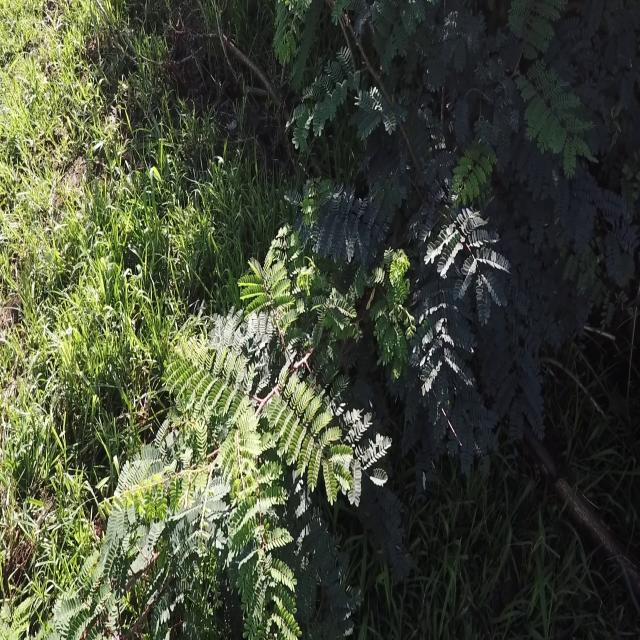Mysore-Thorn-Weed: (49, 234, 380, 639), (385, 0, 640, 449), (289, 0, 443, 230)
